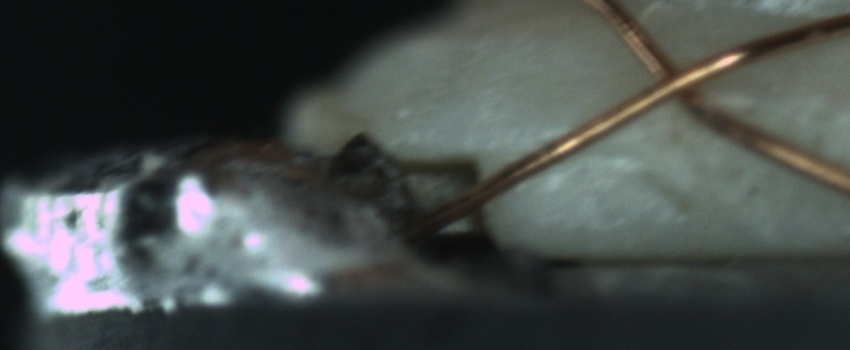CL: (621, 29, 733, 124)
DL: (507, 123, 643, 182)
